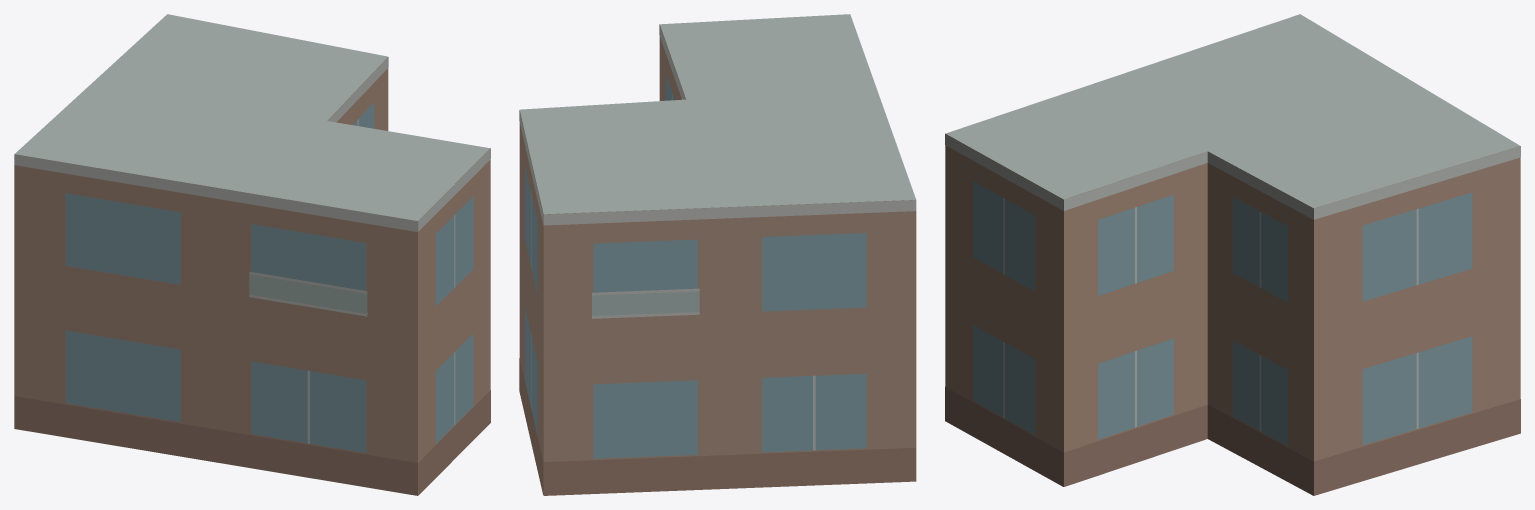
Rendered from survey-upis-32733976.glb.
3 views of the same model, side by side, from view 1: azimuth 30°, elevation 25°; view 2: azimuth 150°, elevation 25°; view 3: azimuth 270°, elevation 25° (orthographic). The views are drawn at different scales.
Parts seen in each view (by area): view 1: survey-upis-32733976.tmp; view 2: survey-upis-32733976.tmp; view 3: survey-upis-32733976.tmp.
Boxes of the visible parts, x1=… form: survey-upis-32733976.tmp: x1=14, y1=14, x2=490, y2=495; survey-upis-32733976.tmp: x1=519, y1=14, x2=916, y2=495; survey-upis-32733976.tmp: x1=945, y1=14, x2=1520, y2=495.
Bounding box in the file's own units: 8.85 × 6.1 × 11.07.
